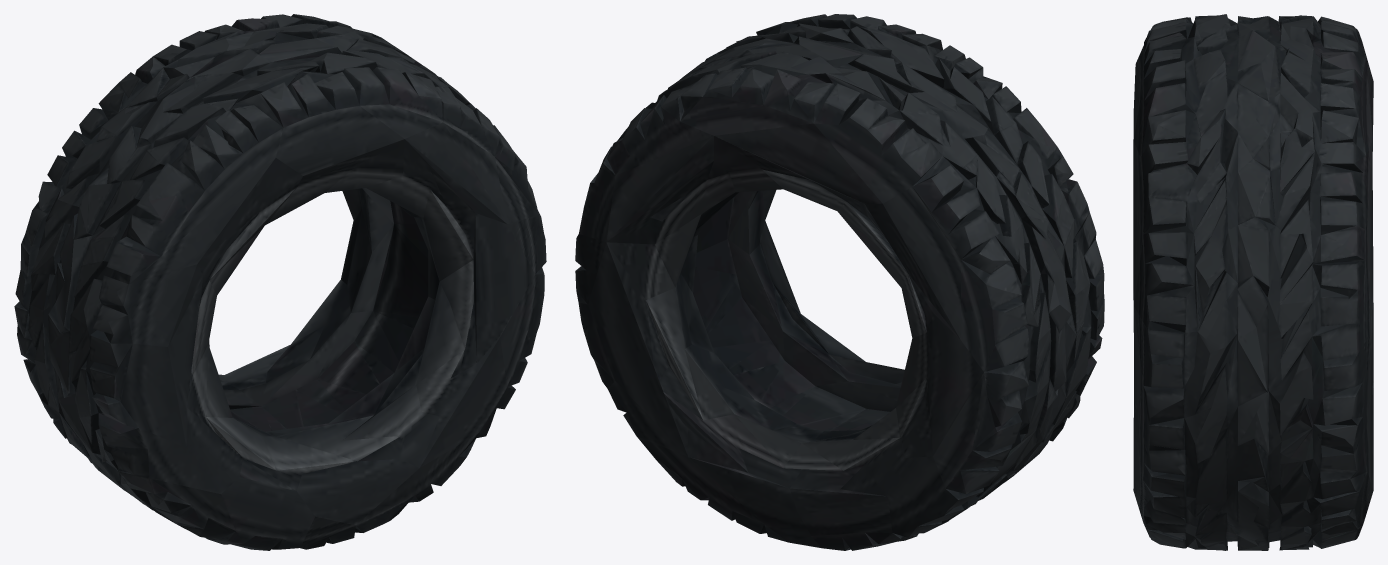
Rendered from tire.glb.
3 renders of one model, left to right at view 1: azimuth 30°, elevation 25°; view 2: azimuth 150°, elevation 25°; view 3: azimuth 270°, elevation 25°, orthographic. The views are drawn at different scales.
Bounding box in the file's own units: 1.9 × 1.9 × 0.8538.
1 material, 1 textured.
